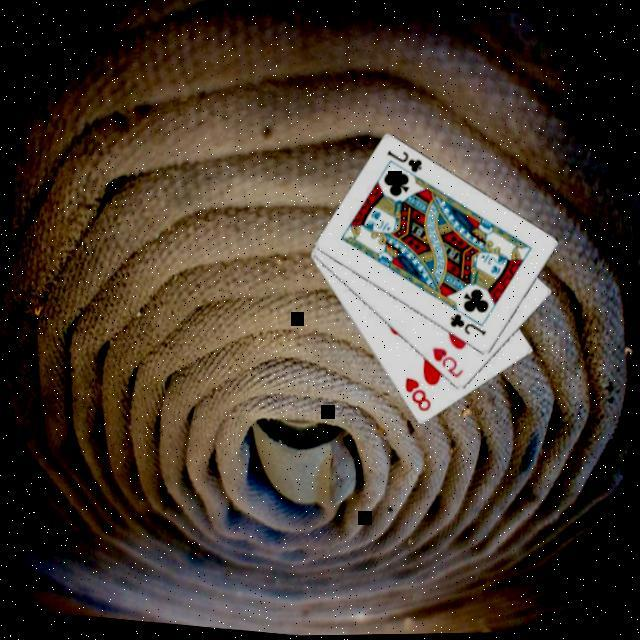5H: (424, 346, 466, 384)
8H: (396, 376, 434, 416)
JC: (443, 311, 488, 342), (380, 148, 424, 178)
